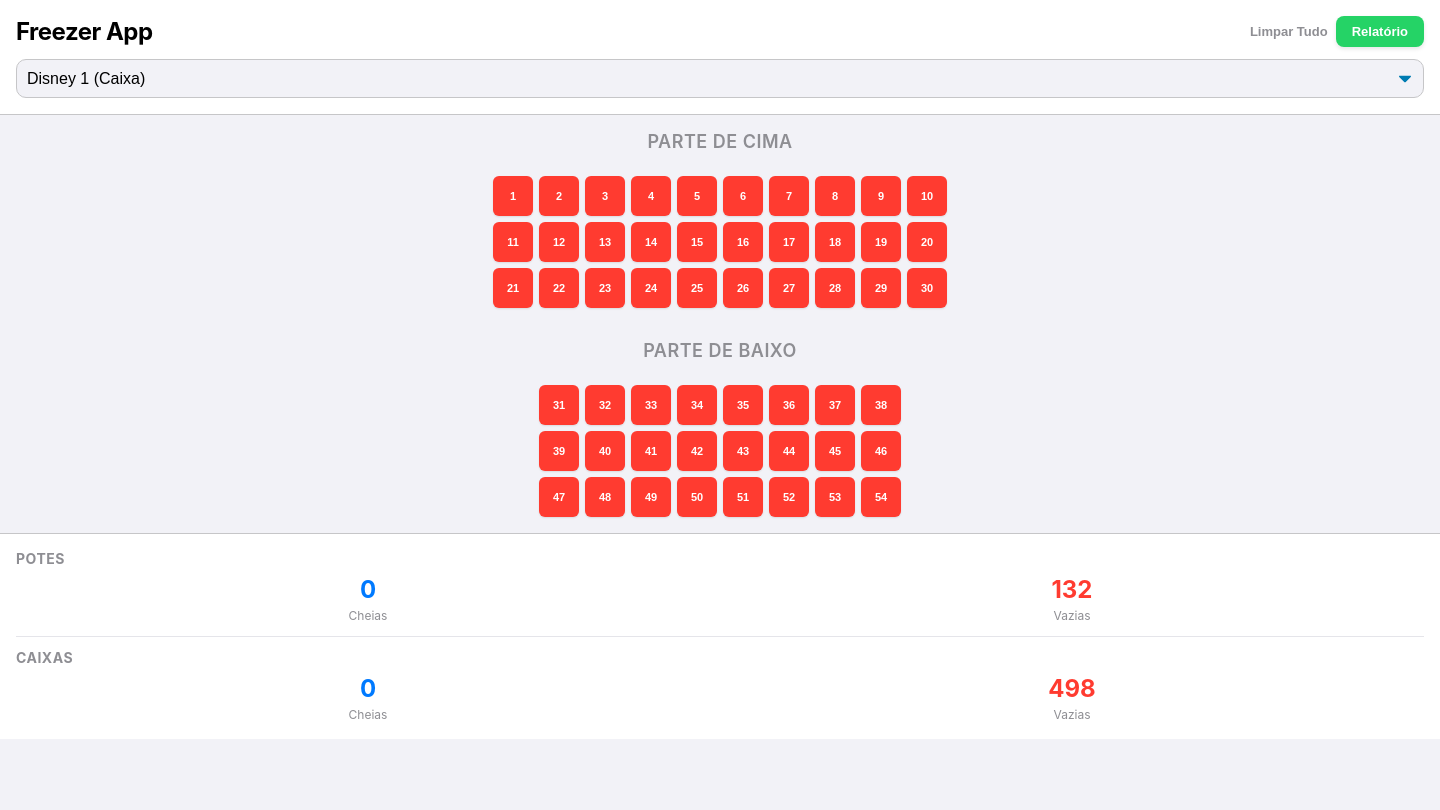
Freezer Manager Mixed Layout Tests › resets all freezers via Limpar Tudo
Click the button "1": x=513, y=196 [493,176,533,216]
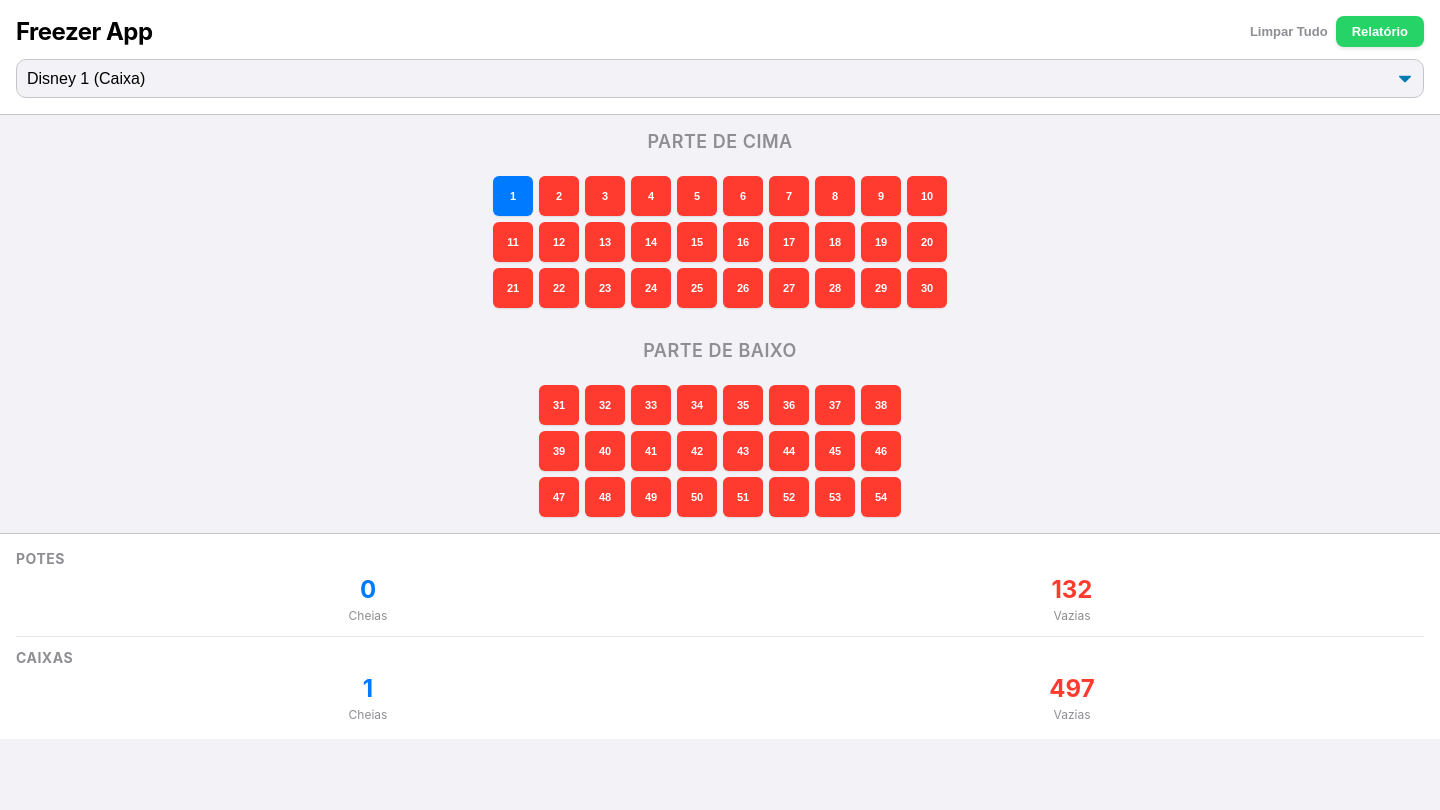
Now the text with class "stat-value" reads "1", box [363,674,373,703]
Click the button "Limpar Tudo": x=1289, y=32 [1250,16,1328,47]
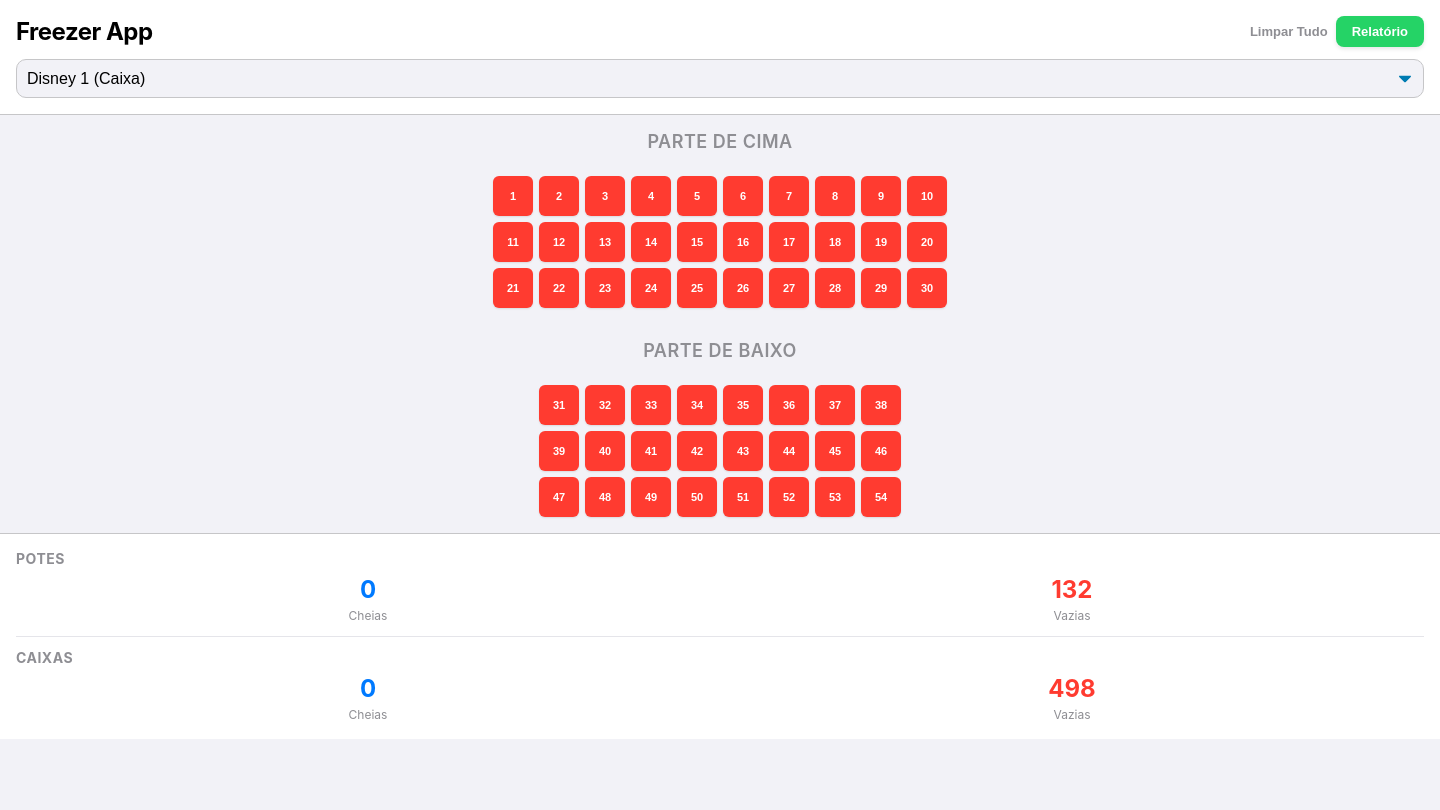
Now the text with class "stat-value" in the row of "498" reads "0", box [360,674,376,703]
